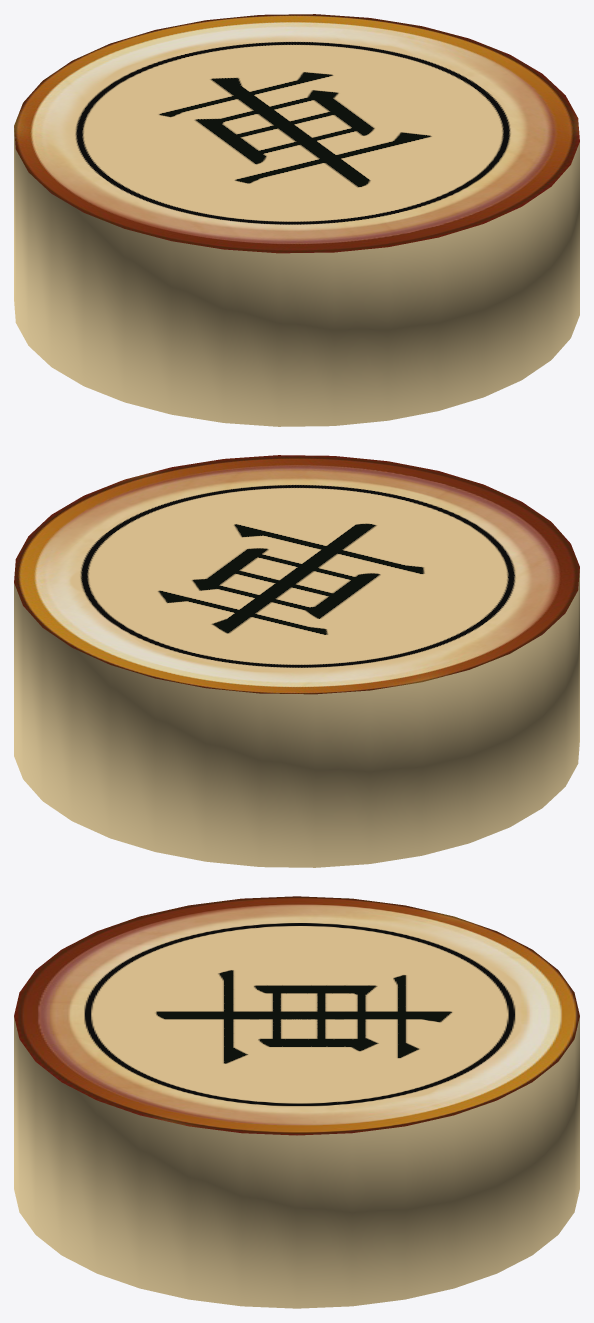
File: xe_den.fbx
The picture shows the model from 3 angles, top to bottom: view 1: azimuth 30°, elevation 25°; view 2: azimuth 150°, elevation 25°; view 3: azimuth 270°, elevation 25°; orthographic projection.
Parts seen in each view (by area): view 1: Cylinder.010; view 2: Cylinder.010; view 3: Cylinder.010.
Part boxes in pixels (<box>): Cylinder.010: <box>14,14,579,426</box>; Cylinder.010: <box>14,455,579,867</box>; Cylinder.010: <box>14,896,579,1308</box>.
Bounding box in the file's own units: 200 × 67.52 × 200.
